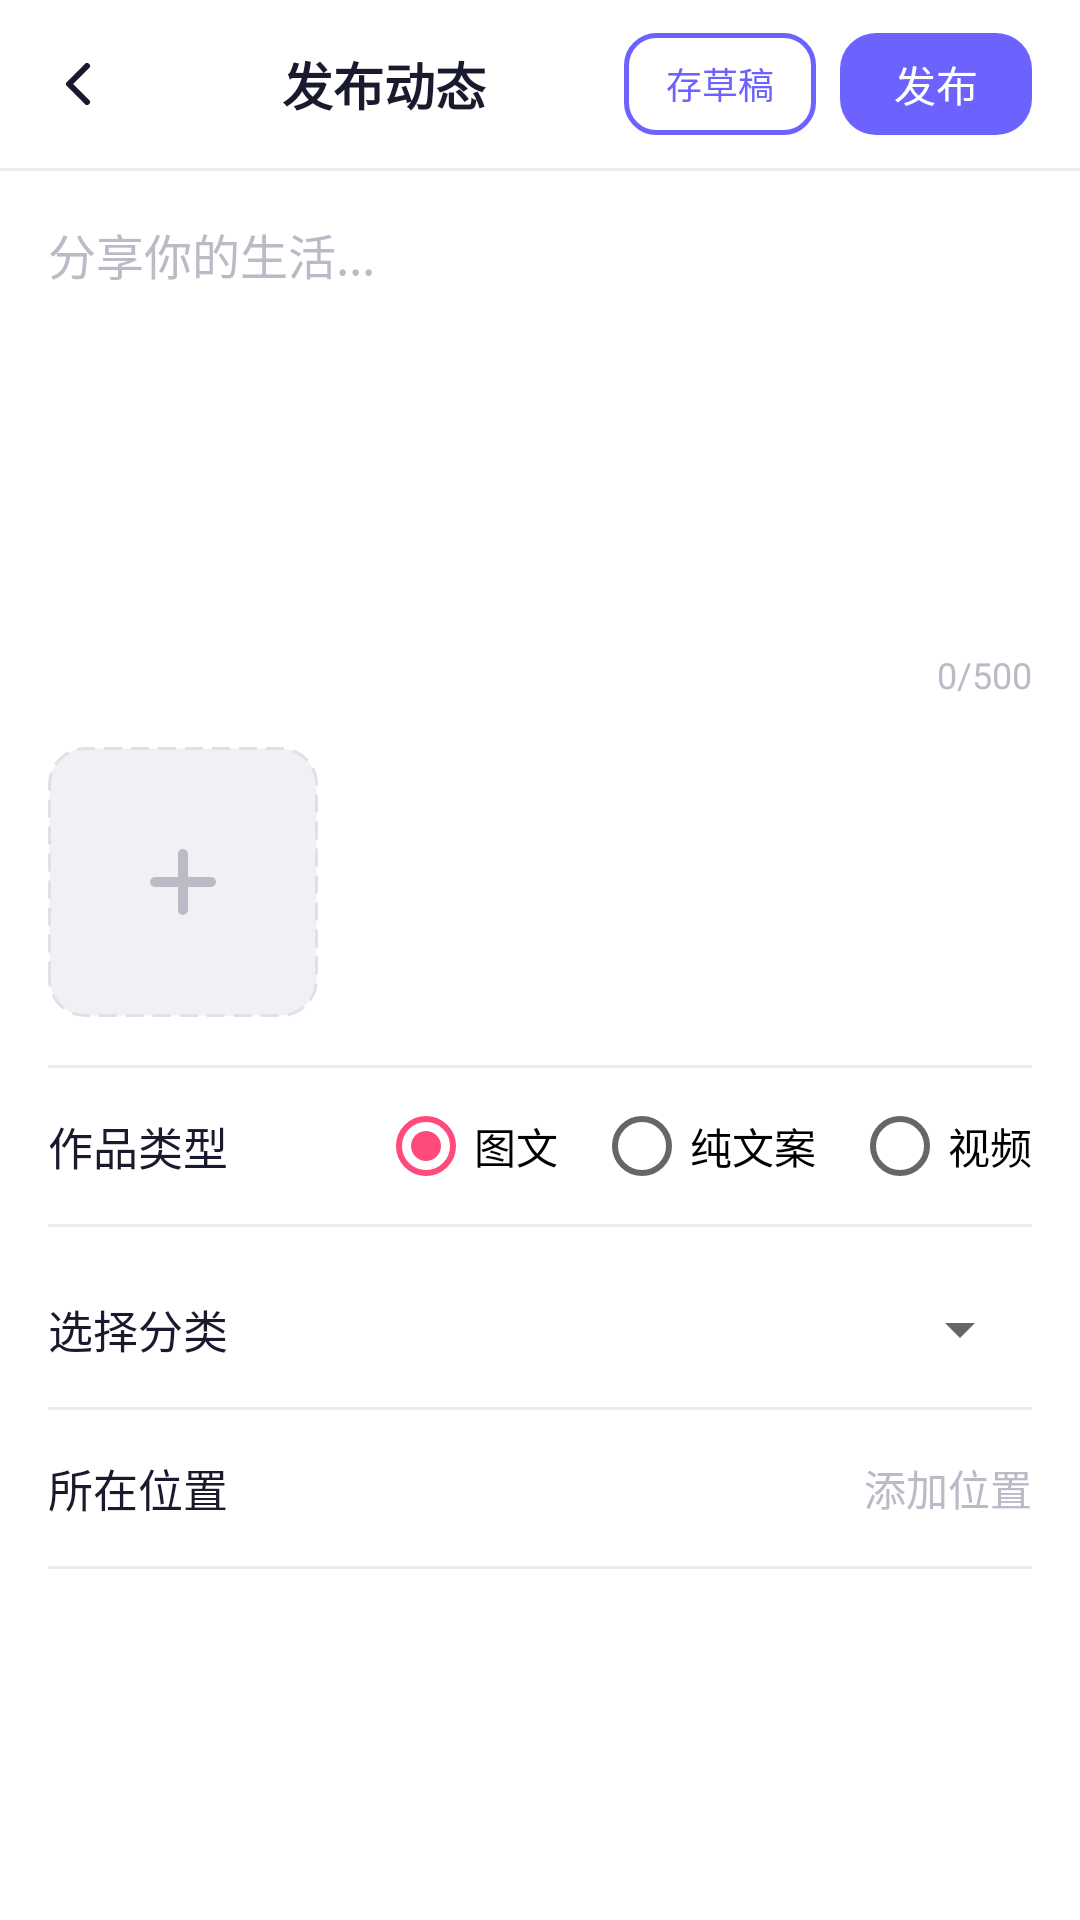

Named icons in this screenshot (1080×1920) and their centers, point (x, y):
add: point (183, 882)
back: point (78, 84)
